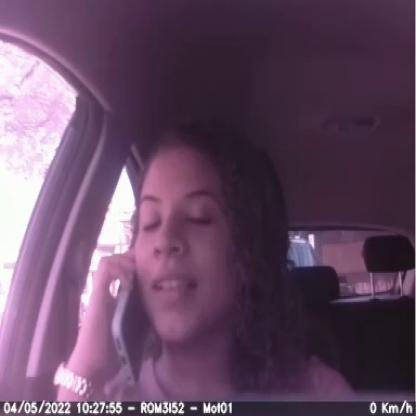phone: (106, 247, 153, 393)
